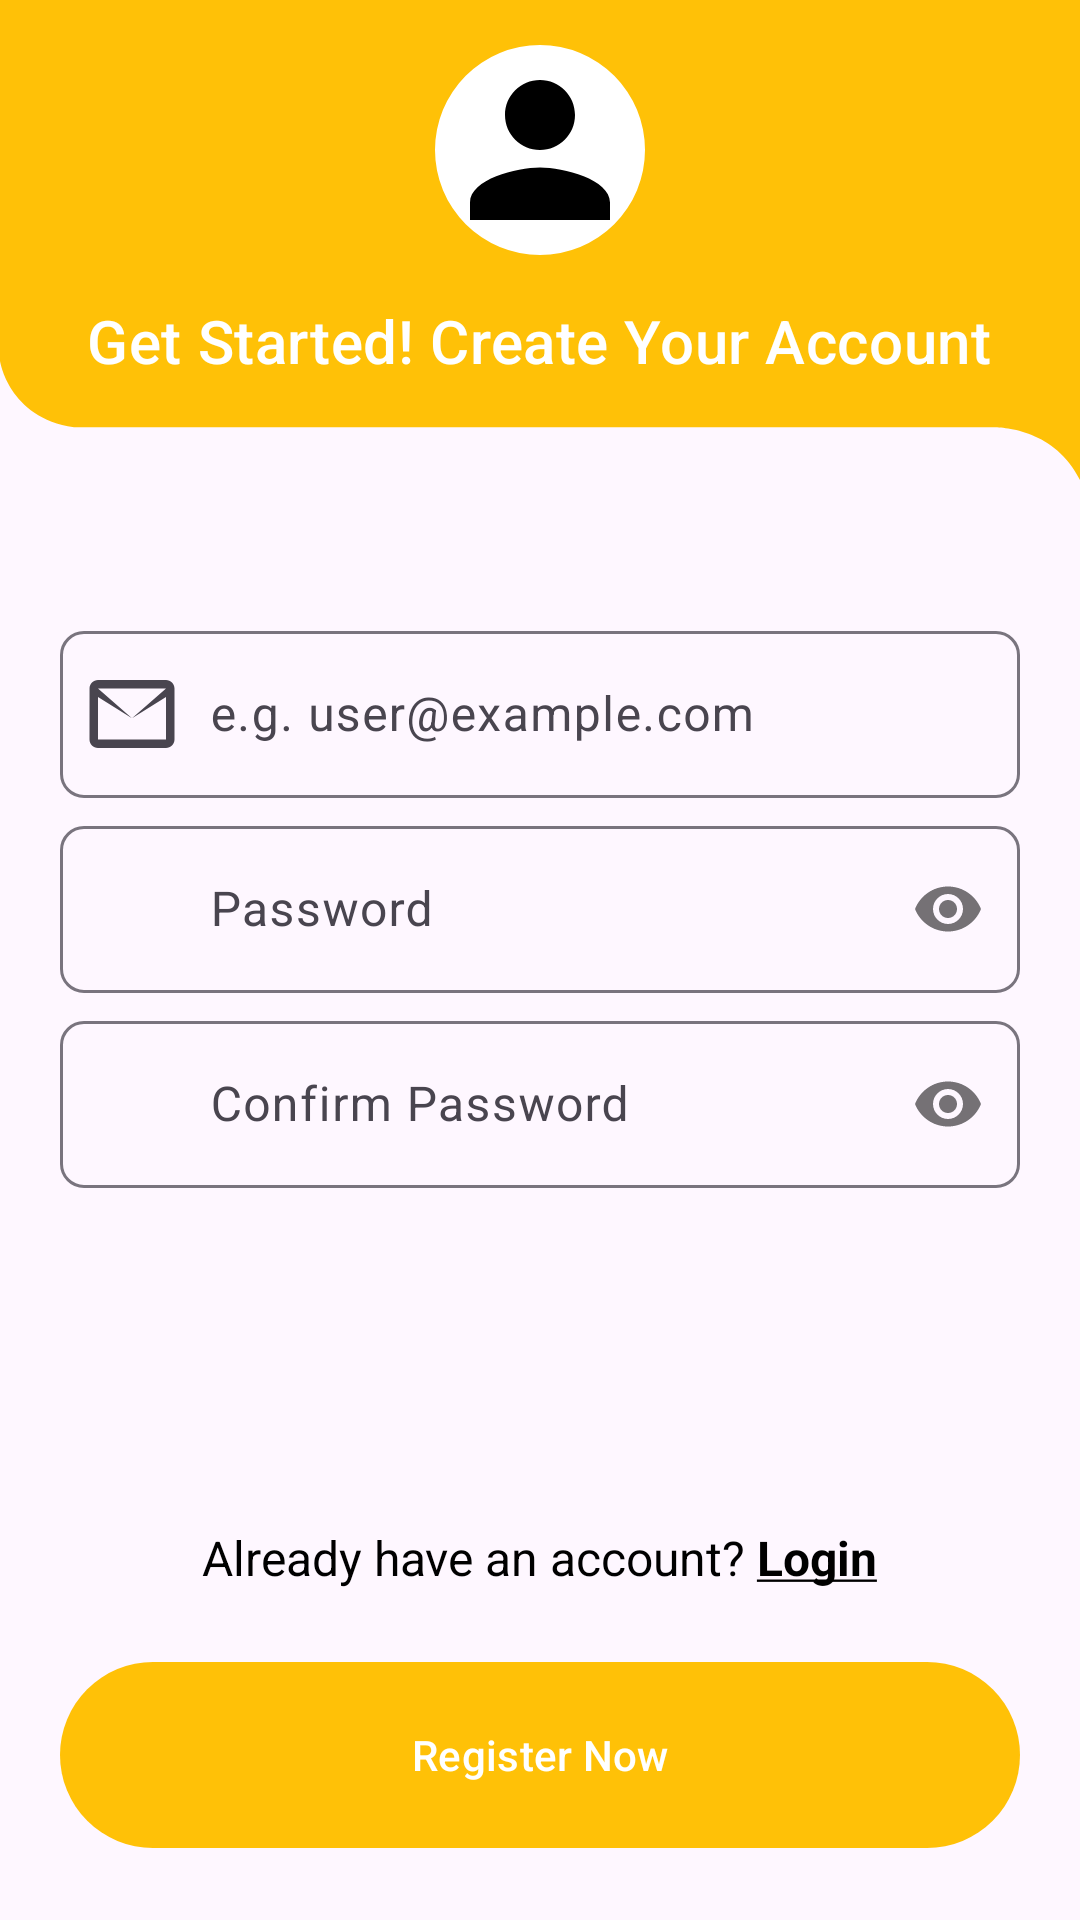

Icons on this 1080 x 1920 Android screen, each with its box as {"x1": x1, "y1": y1, "x2": x2, "y2": y2}:
person profile: {"x1": 435, "y1": 45, "x2": 645, "y2": 255}
